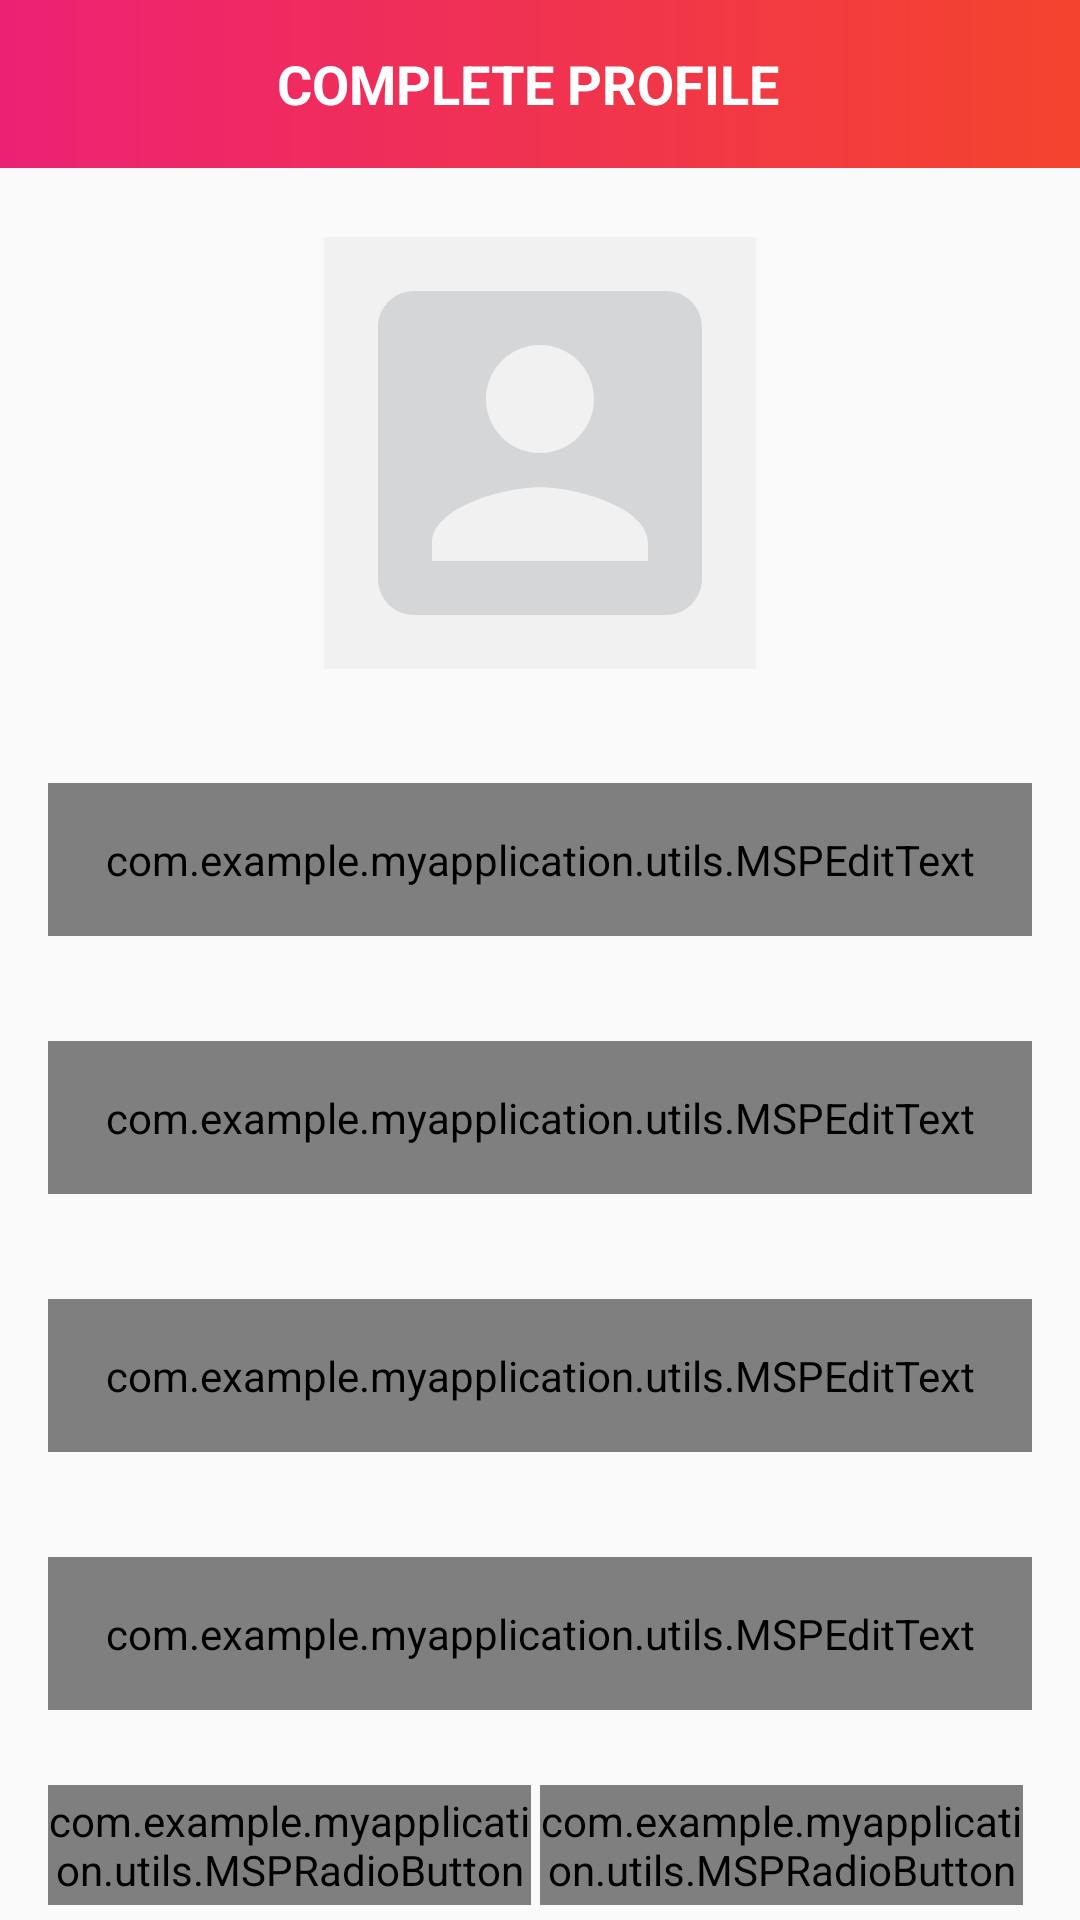

Where to tap for icons on this 1080px x 1920px app screen, as [x,y]:
account box: [540,453]
